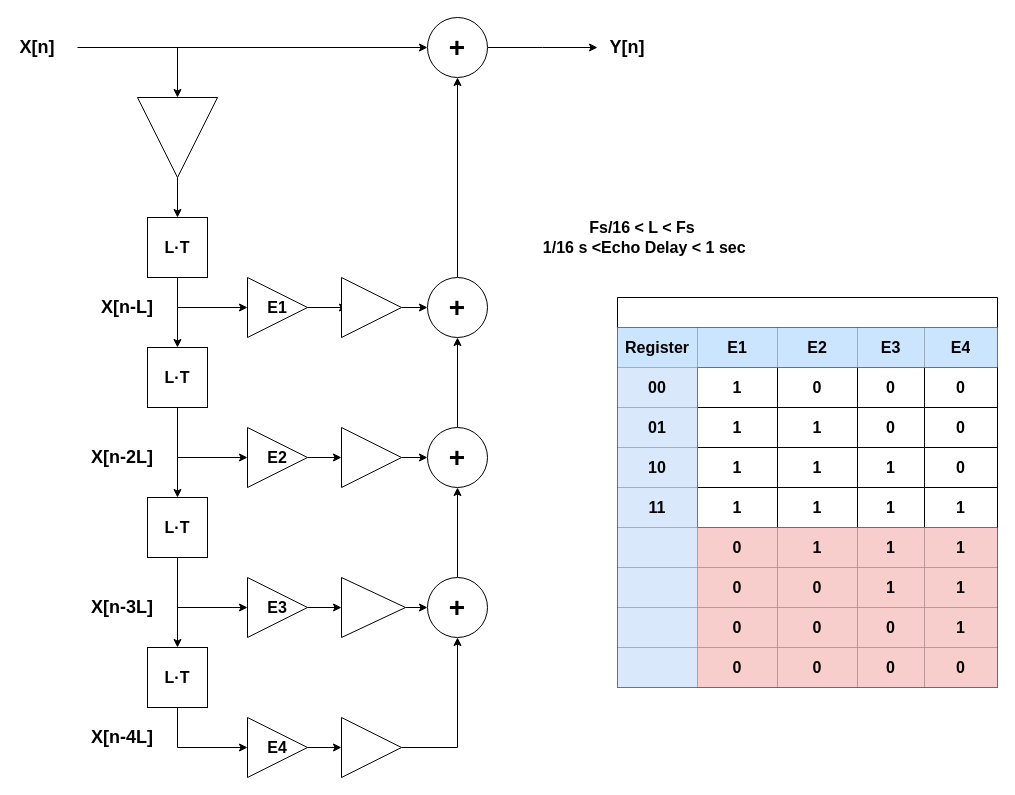
This 1015x795 diagram has some shape labels left out. Here are the shapes that lost their labels. From the top down, the box of each, then its label:
(136, 96, 218, 178): Echo-vol
(340, 276, 402, 338): C1
(340, 426, 402, 488): C2
(616, 296, 998, 688): Number of Echos settings
(340, 576, 406, 638): C3
(340, 716, 402, 778): C4
